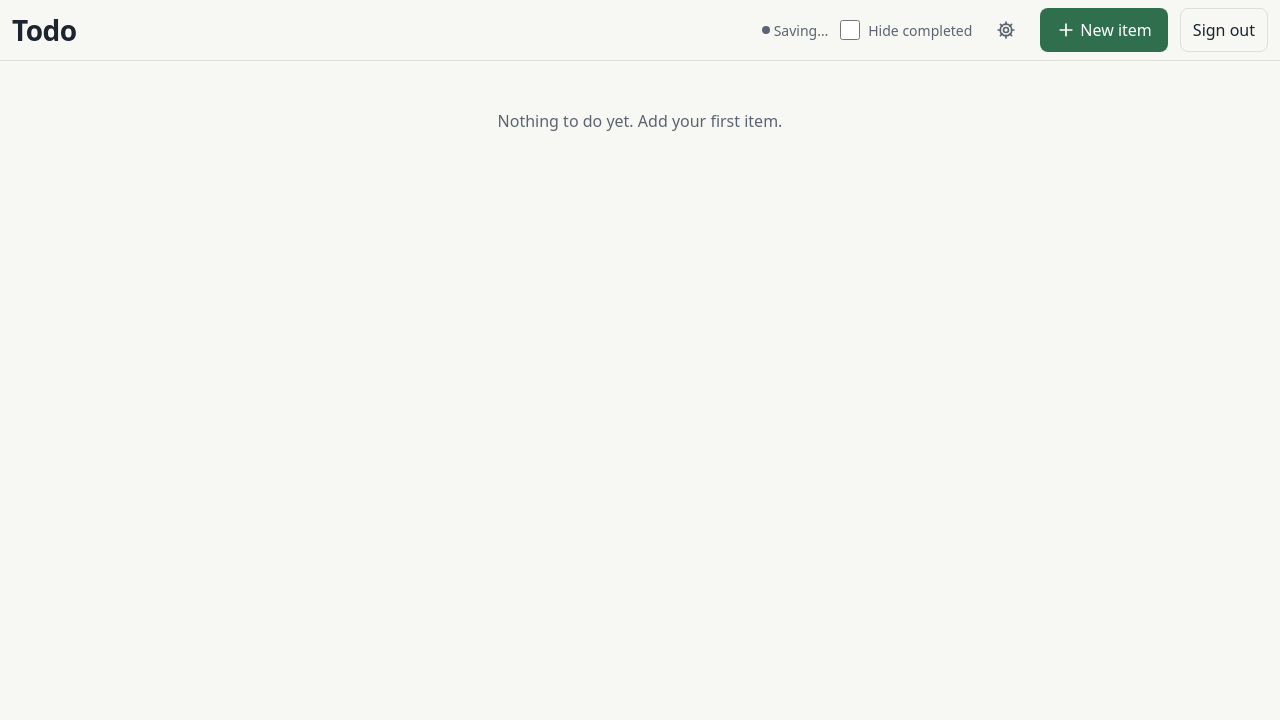
Test: keyboard use of the settings panel › returns focus to the switch when "Use device setting" removes itself
Click the button named "Settings": (1006, 30) [984,8,1028,52]
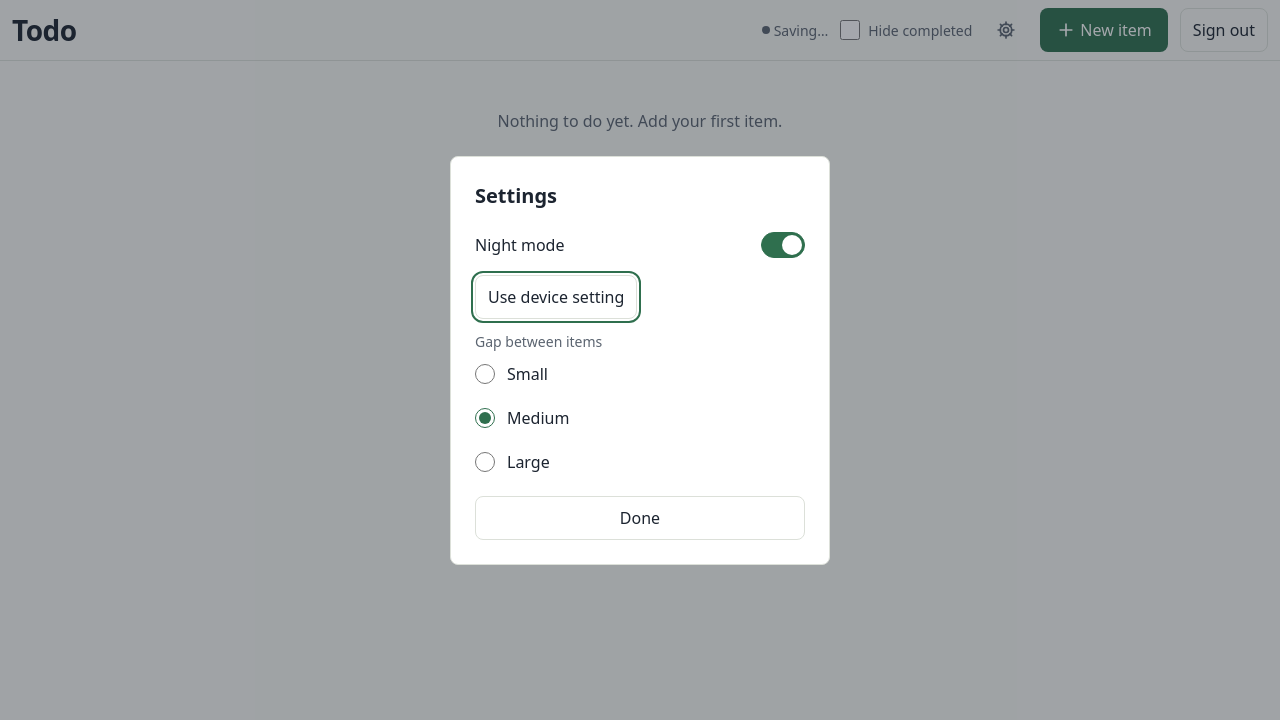
Press Enter
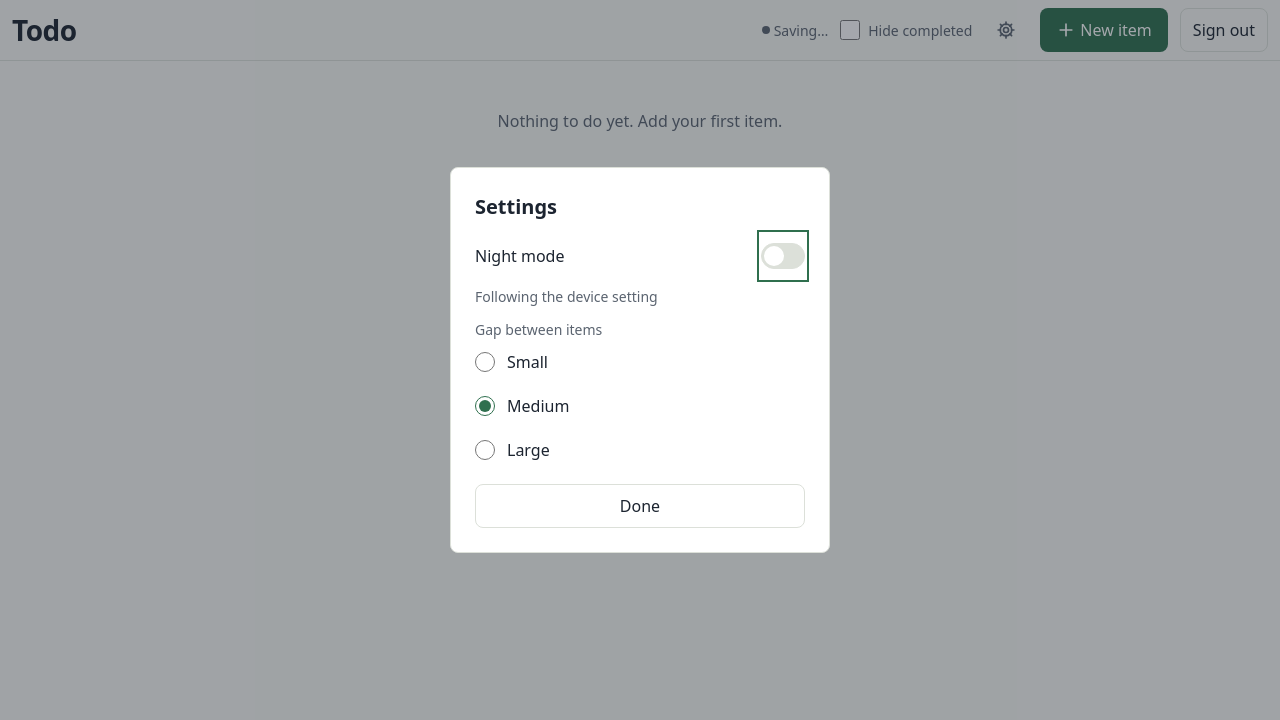
Expected: the button "Use device setting" is gone
